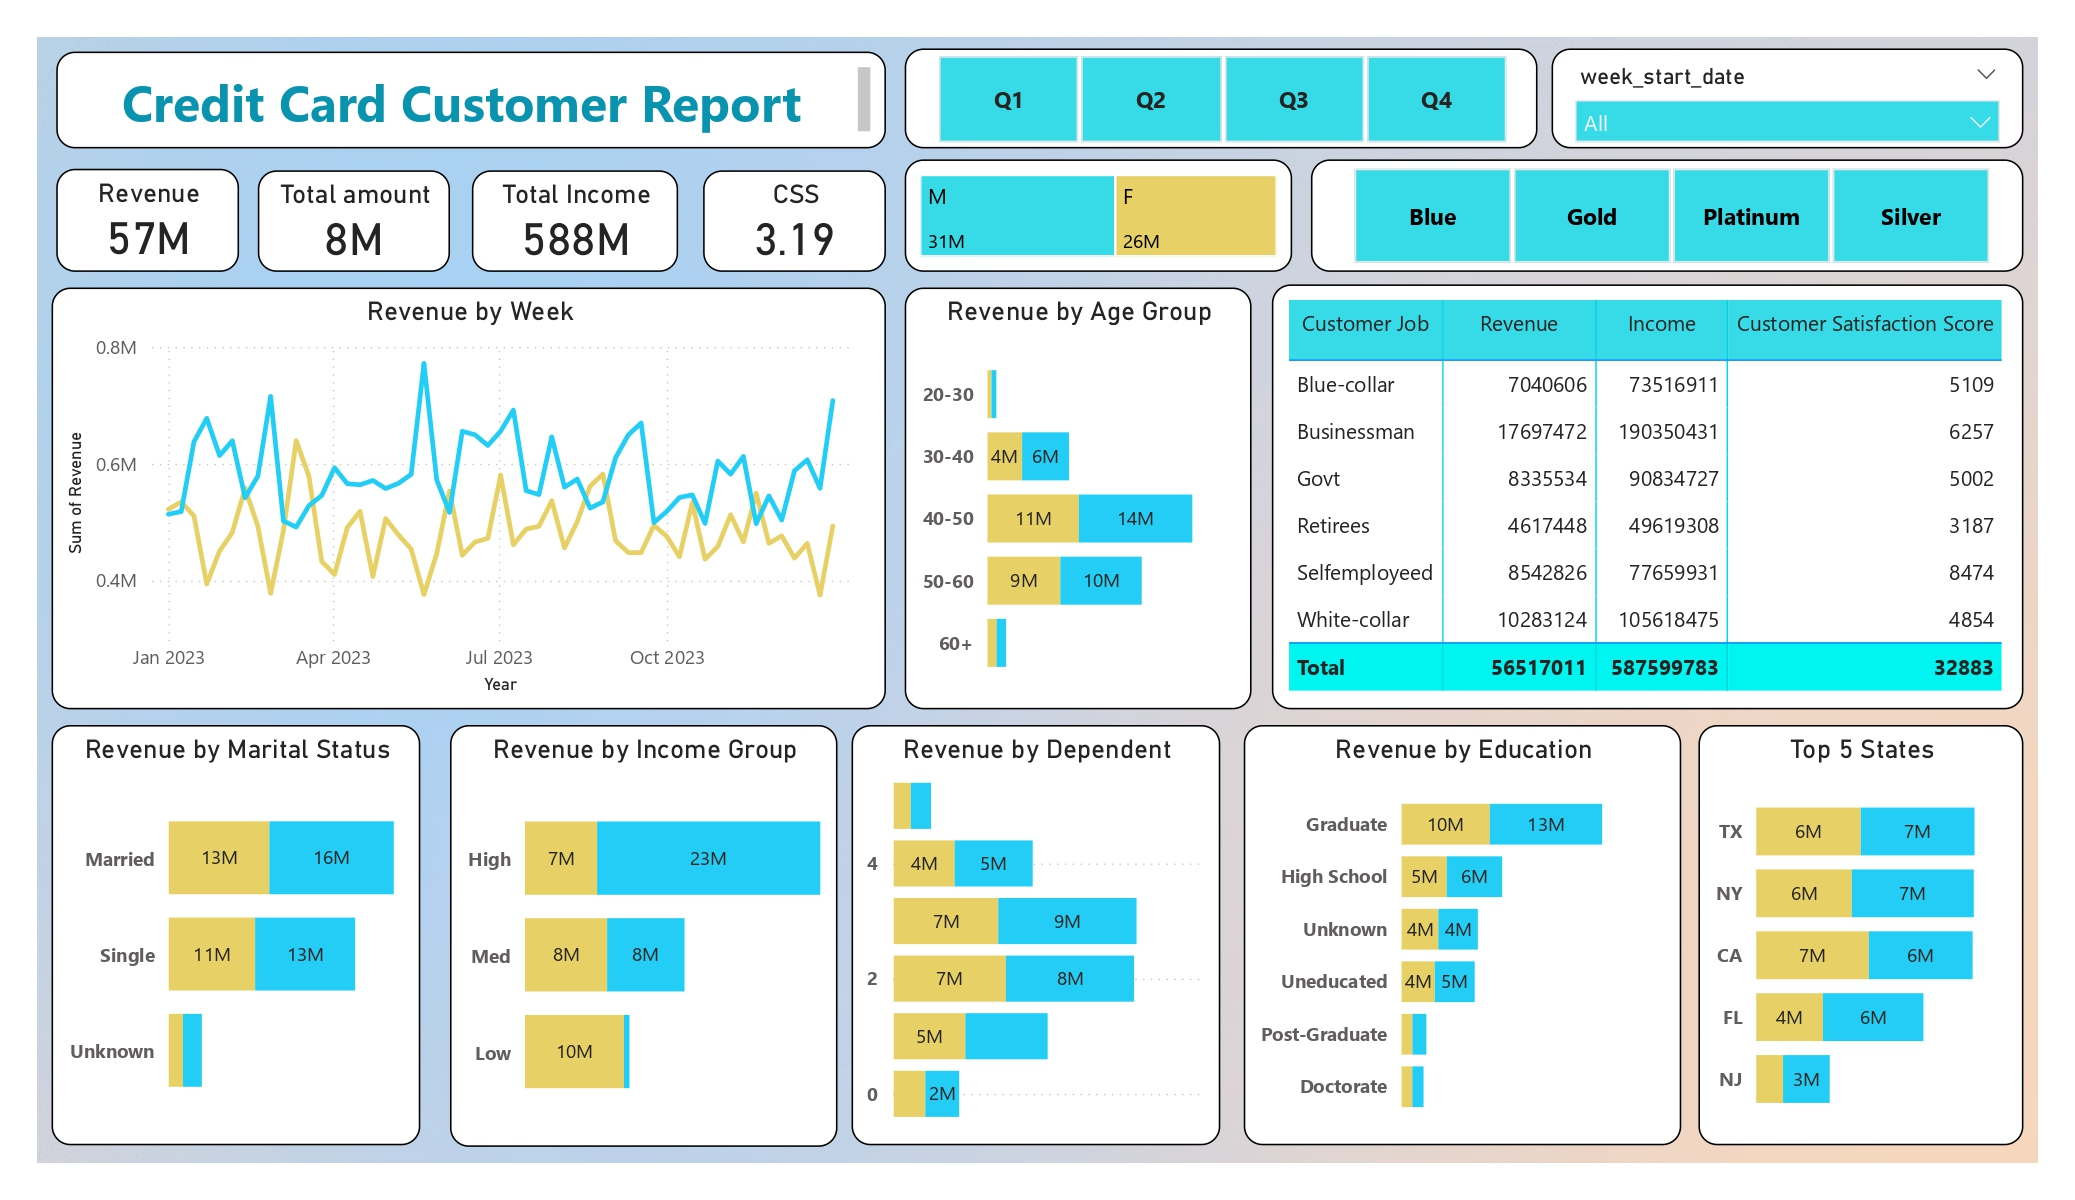

The dashboard page shown, as its layout file describes it:
{"tool":"powerbi","page":{"name":"CC Customer ","canvas":[1280,720],"ordinal":2},"visuals":[{"type":"barChart","title":"Revenue by Dependent","fields":{"Y":["Sum(public cc_detail.Revenue)"],"Category":["public cust_detail.dependent_count"],"Series":["public cust_detail.gender"]},"box":[520.9,439.5,236,269.8],"z":0},{"type":"tableEx","fields":{"Values":["public cust_detail.customer_job","Sum(public cc_detail.Revenue)","Sum(public cust_detail.income)","Sum(public cust_detail.cust_satisfaction_score)"]},"box":[789.5,158.1,481.4,272.1],"z":1000},{"type":"card","title":"Revenue ","fields":{"Values":["Sum(public cc_detail.Revenue)"]},"box":[11.6,83.7,117.4,66.3],"z":2000},{"type":"card","title":"Total Income","fields":{"Values":["Sum(public cust_detail.income)"]},"box":[277.9,84.9,132.6,65.1],"z":3000},{"type":"card","title":"Total amount","fields":{"Values":["Sum(public cc_detail.interest_earned)"]},"box":[140.7,84.9,123.3,65.1],"z":4000},{"type":"card","title":"CSS","fields":{"Values":["Avg(public cust_detail.cust_satisfaction_score)"]},"box":[425.6,84.9,117.4,65.1],"z":5000},{"type":"textbox","box":[11.6,9.3,531.4,62],"z":6000},{"type":"slicer","fields":{"Values":["public cc_detail.week_start_date"]},"box":[968.6,7,302.3,64],"z":7000},{"type":"slicer","fields":{"Values":["public cc_detail.qtr"]},"box":[554.7,7,405.8,64],"z":8000},{"type":"slicer","fields":{"Values":["public cc_detail.card_category"]},"box":[815.1,77.9,455.8,72.1],"z":9000},{"type":"lineChart","title":"Revenue by Week","fields":{"Y":["Sum(public cc_detail.Revenue)"],"Series":["public cust_detail.gender"],"Category":["public cc_detail.week_start_date.Variation.Date Hierarchy.Year","public cc_detail.week_start_date.Variation.Date Hierarchy.Quarter","public cc_detail.week_start_date.Variation.Date Hierarchy.Month","public cc_detail.week_start_date.Variation.Date Hierarchy.Day"]},"box":[9.3,160.5,533.7,269.8],"z":10000},{"type":"treemap","fields":{"Group":["public cust_detail.gender"],"Values":["Sum(public cc_detail.Revenue)"]},"box":[554.7,77.9,248.8,72.1],"z":11000},{"type":"barChart","title":"Revenue by Age Group","fields":{"Y":["Sum(public cc_detail.Revenue)"],"Category":["public cust_detail.AgeGroup"],"Series":["public cust_detail.gender"]},"box":[554.7,160.5,222.1,269.8],"z":12000},{"type":"barChart","title":"Revenue by Income Group","fields":{"Y":["Sum(public cc_detail.Revenue)"],"Category":["public cust_detail.Income Group"],"Series":["public cust_detail.gender"]},"box":[264,439.5,247.7,270.9],"z":13000},{"type":"barChart","title":"Revenue by Education","fields":{"Y":["Sum(public cc_detail.Revenue)"],"Category":["public cust_detail.education_level"],"Series":["public cust_detail.gender"]},"box":[772.1,439.5,280.2,269.8],"z":14000},{"type":"barChart","title":"Top 5 States","fields":{"Y":["Sum(public cc_detail.Revenue)"],"Category":["public cust_detail.state_cd"],"Series":["public cust_detail.gender"]},"box":[1062.8,439.5,208.1,269.8],"z":15000},{"type":"barChart","title":"Revenue by Marital Status","fields":{"Y":["Sum(public cc_detail.Revenue)"],"Category":["public cust_detail.marital_status"],"Series":["public cust_detail.gender"]},"box":[9.3,439.5,236,269.8],"z":16000}]}

Visuals, with their boxes in screenshot pixels (x1, y1, x2, y2):
"Revenue by Dependent" barChart: 857,716,1221,1132
tableEx - public cust_detail.customer_job x Sum(public cc_detail.Revenue): 1271,282,2014,701
"Revenue " card: 72,167,253,269
"Total Income" card: 483,169,687,269
"Total amount" card: 271,169,461,269
"CSS" card: 710,169,891,269
textbox: 72,52,891,148
slicer - public cc_detail.week_start_date: 1548,49,2014,147
slicer - public cc_detail.qtr: 909,49,1535,147
slicer - public cc_detail.card_category: 1311,158,2014,269
"Revenue by Week" lineChart: 68,285,891,701
treemap - public cust_detail.gender x Sum(public cc_detail.Revenue): 909,158,1293,269
"Revenue by Age Group" barChart: 909,285,1252,701
"Revenue by Income Group" barChart: 461,716,843,1133
"Revenue by Education" barChart: 1245,716,1677,1132
"Top 5 States" barChart: 1693,716,2014,1132
"Revenue by Marital Status" barChart: 68,716,432,1132
